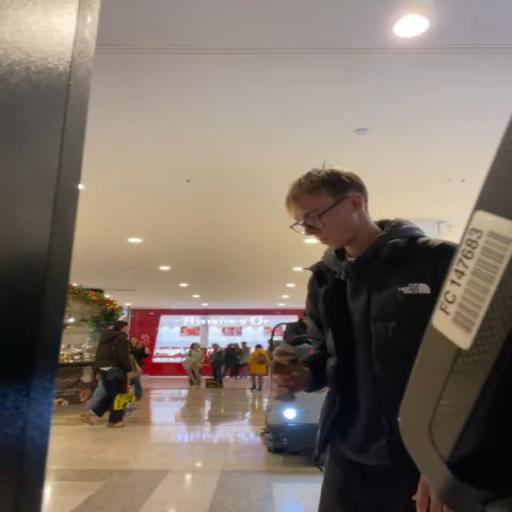kendama_ball: (273, 344, 298, 363)
